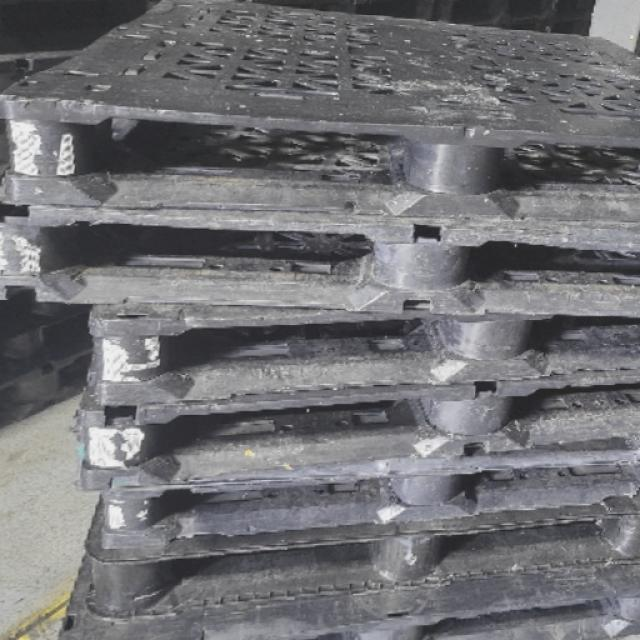igps: (0, 0, 640, 241), (18, 200, 640, 328), (76, 295, 640, 413), (95, 440, 640, 559), (62, 395, 640, 502), (54, 548, 640, 640), (76, 530, 640, 625), (0, 297, 104, 395), (1, 342, 102, 432)
